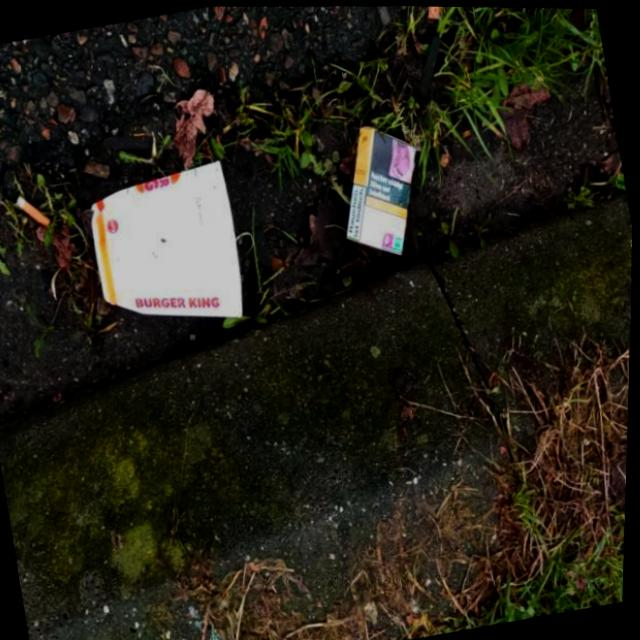Cup: (86, 153, 248, 319)
Paper: (342, 121, 421, 256)
